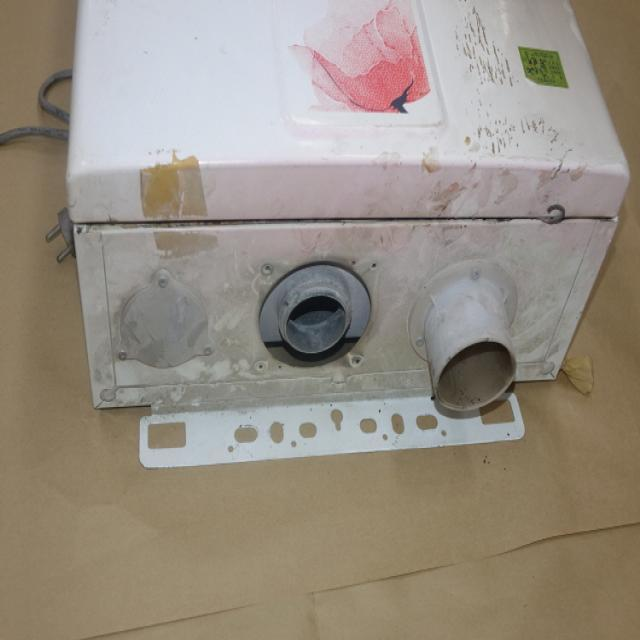Boiler: (66, 1, 634, 416)
